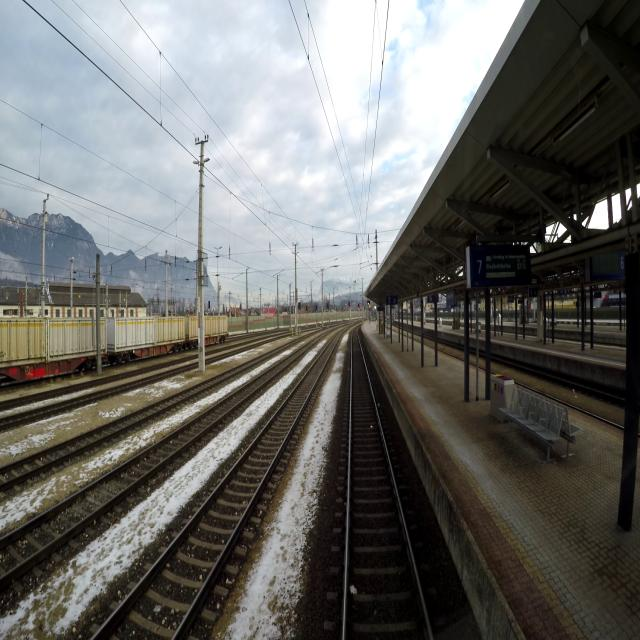rail-track: (94, 337, 337, 639), (0, 357, 290, 572), (347, 329, 429, 639), (0, 385, 201, 481)
